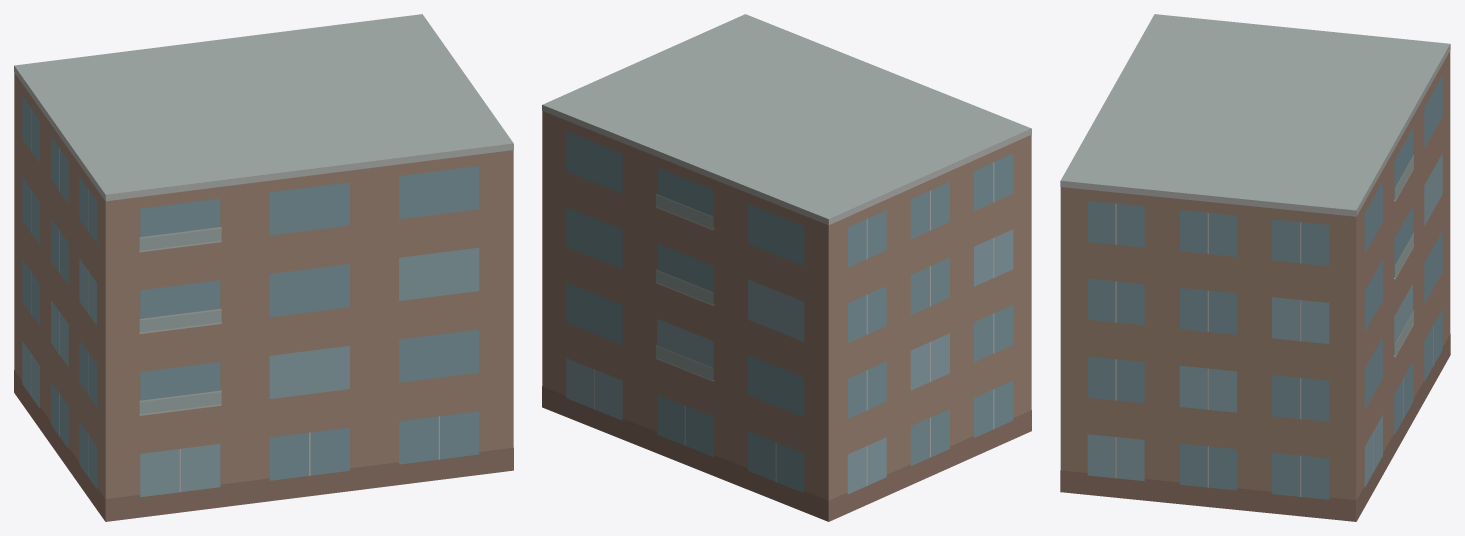
The model's file is residential-6750b987-0134-4a0b-b68f-090f69006736.glb.
3 renders of one model, left to right at view 1: azimuth 30°, elevation 25°; view 2: azimuth 150°, elevation 25°; view 3: azimuth 270°, elevation 25°, orthographic. The views are drawn at different scales.
Parts seen in each view (by area): view 1: residential-6750b987-0134-4a0b-b68f-090f69006736.tmp; view 2: residential-6750b987-0134-4a0b-b68f-090f69006736.tmp; view 3: residential-6750b987-0134-4a0b-b68f-090f69006736.tmp.
Part boxes in pixels (box(x1,y1,x2,y2)): residential-6750b987-0134-4a0b-b68f-090f69006736.tmp: box(14, 14, 513, 521); residential-6750b987-0134-4a0b-b68f-090f69006736.tmp: box(542, 14, 1031, 521); residential-6750b987-0134-4a0b-b68f-090f69006736.tmp: box(1060, 14, 1450, 521).
Bounding box in the file's own units: 16.52 × 12.2 × 13.86.
